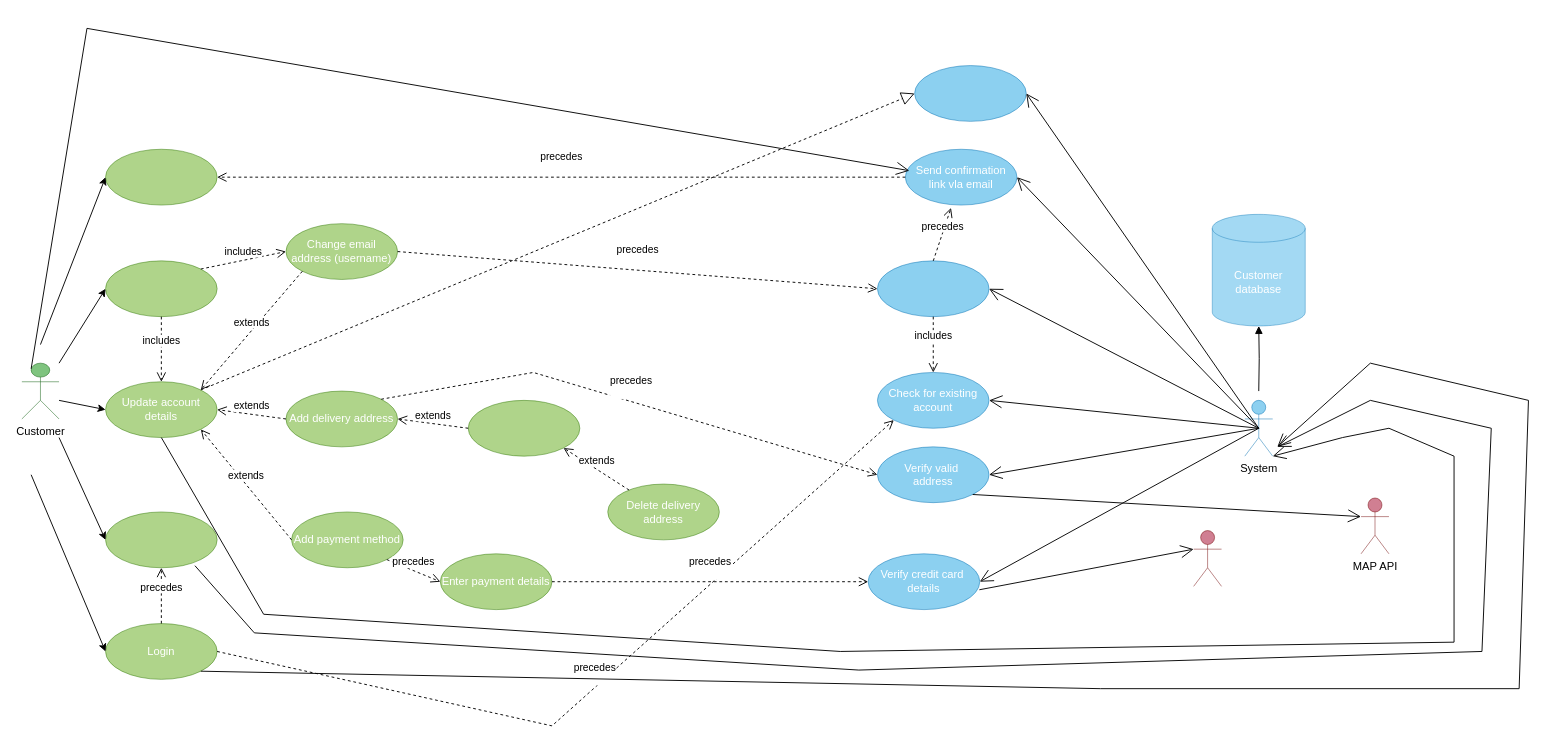
Some shapes in this 1558 by 751 pixel diagram are drawn without their labels. Here are the shapes that lost their labels. From the top down, the box of each, then its label:
(914, 65, 1026, 121): Update customer database
(105, 148, 217, 205): Confirm email address
(105, 260, 217, 317): Register
(877, 260, 989, 317): Verify email is unique
(467, 399, 580, 456): Update delivery address
(105, 511, 217, 568): View account
(1193, 530, 1222, 586): Third-party payment verification service
